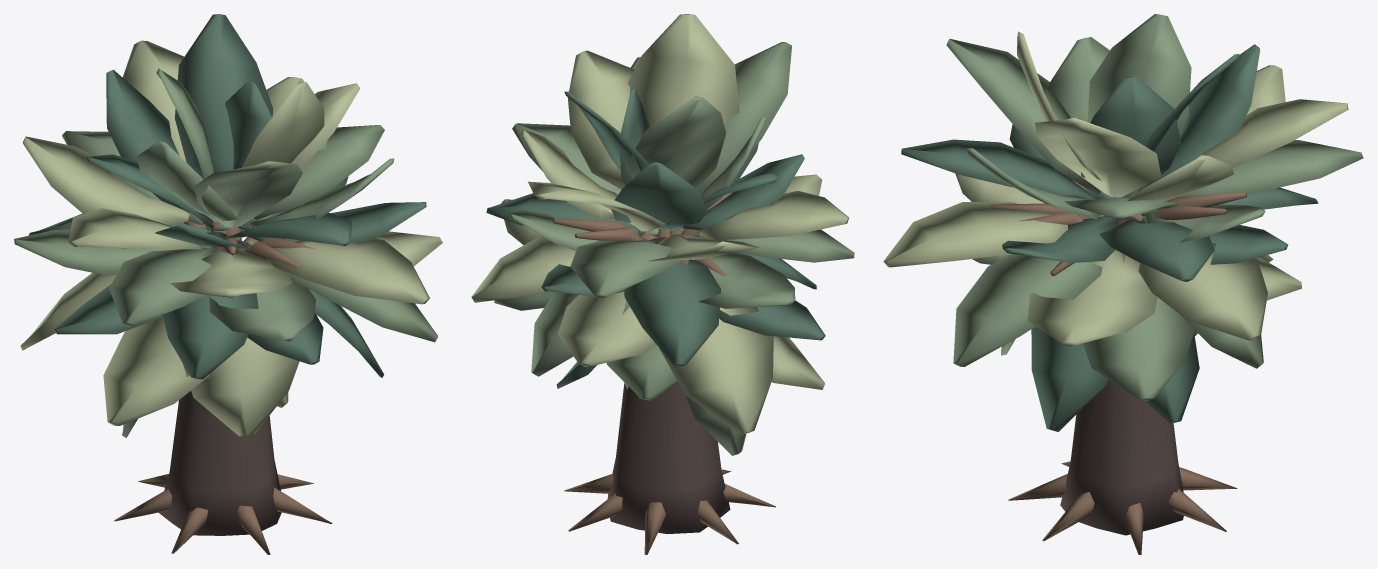
Rendered from tree_orb_giant.glb.
3 views of the same model, side by side, from view 1: azimuth 30°, elevation 25°; view 2: azimuth 150°, elevation 25°; view 3: azimuth 270°, elevation 25° (orthographic). The views are drawn at different scales.
Visible parts, largest first — view 1: tree_orb_giant; view 2: tree_orb_giant; view 3: tree_orb_giant.
Boxes of the visible parts, left/top/right/bottom form: tree_orb_giant: left=14, top=14, right=442, bottom=554; tree_orb_giant: left=471, top=14, right=854, bottom=554; tree_orb_giant: left=883, top=14, right=1363, bottom=554.
Size of the model in its own units: 14.8 by 18 by 16.16.
